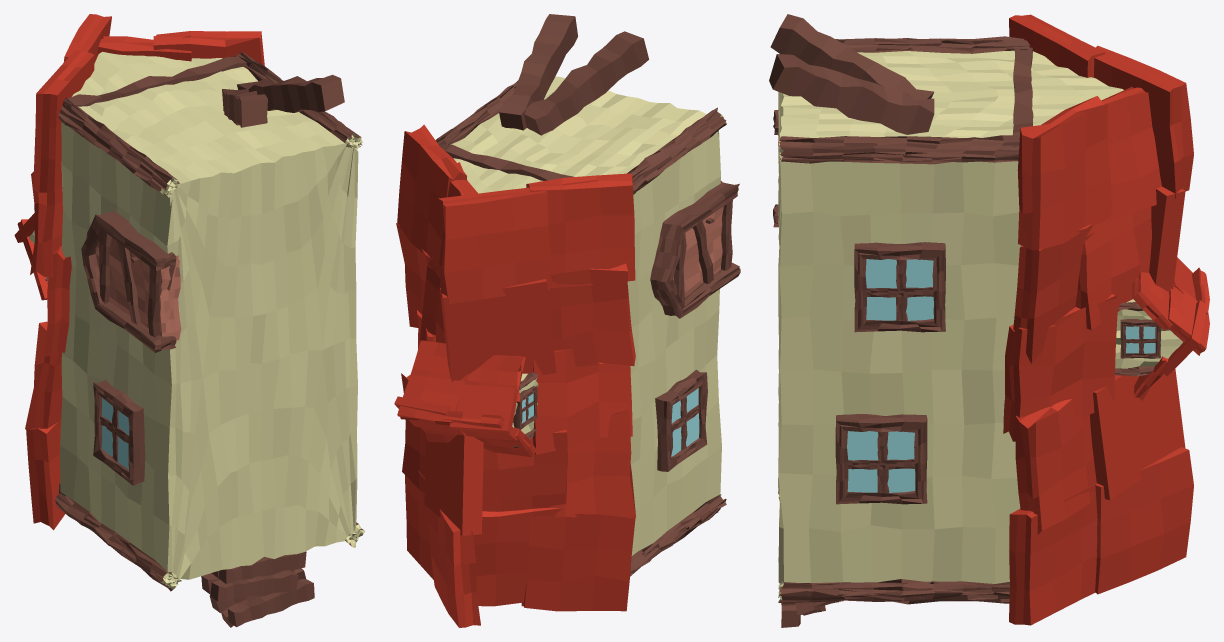
Rendered from house2.fbx.
3 views of the same model, side by side, from view 1: azimuth 30°, elevation 25°; view 2: azimuth 150°, elevation 25°; view 3: azimuth 270°, elevation 25° (orthographic). The views are drawn at different scales.
Parts seen in each view (by area): view 1: House 2; view 2: House 2; view 3: House 2.
Part boxes in pixels (x1=…): House 2: x1=14, y1=14, x2=365, y2=627; House 2: x1=394, y1=14, x2=740, y2=627; House 2: x1=769, y1=14, x2=1209, y2=627.
Bounding box in the file's own units: 59220 × 122814 × 81742.
